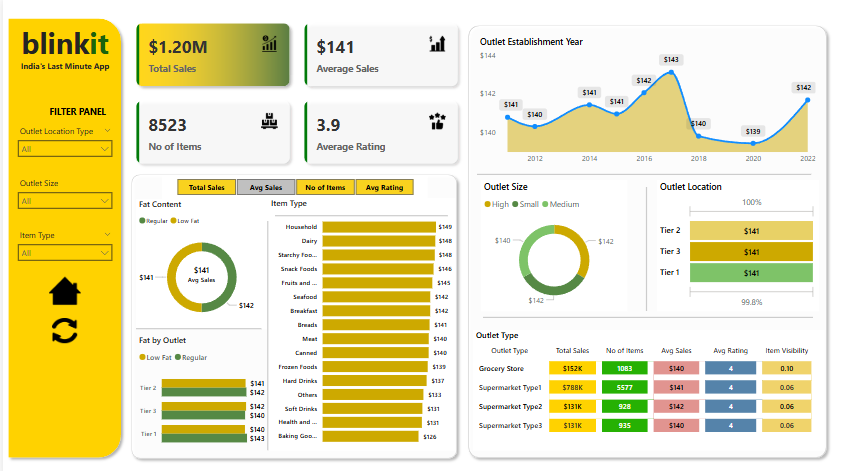

This screenshot's page, from the dashboard's own definition file:
{"tool":"powerbi","page":{"name":"Page 1","canvas":[1400,800],"ordinal":0},"visuals":[{"type":"shape","box":[0,24.1,205.6,750.2],"z":0},{"type":"textbox","box":[20.9,35.3,163.9,75.5],"z":1000},{"type":"textbox","box":[14.5,98,176.7,27.3],"z":2000},{"type":"cardVisual","fields":{"Data":["Key Metrics.Total Sales","Key Metrics.Average Sales","Key Metrics.No of Items","Key Metrics.Average Rating"]},"box":[205.6,24.1,570.3,269.9],"z":3000},{"type":"shape","box":[205.6,282.7,560.6,491.6],"z":4000},{"type":"donutChart","title":"Fat Content","fields":{"Y":["Key Metrics.Total Sales"],"Category":["BlinkIT Grocery Data.Item Fat Content"]},"box":[221.4,332.9,220,217.1],"z":5000},{"type":"slicer","fields":{"Values":["Metrics.Metrics"]},"box":[265.1,294,443.4,40.2],"z":6000},{"type":"cardVisual","fields":{"Data":["Key Metrics.Total Sales"]},"box":[289.2,422.5,85.1,73.9],"z":7000},{"type":"clusteredBarChart","title":"Fat by Outlet","fields":{"Y":["Key Metrics.Total Sales"],"Category":["BlinkIT Grocery Data.Outlet Location Type"],"Series":["BlinkIT Grocery Data.Item Fat Content"]},"box":[221.4,560,220,201.4],"z":8000},{"type":"barChart","title":"Item Type","fields":{"Y":["Key Metrics.Total Sales"],"Category":["BlinkIT Grocery Data.Item Type"]},"box":[441.8,330.9,311.6,420.9],"z":9000},{"type":"shape","box":[221.7,520.5,208.8,59.4],"z":10000},{"type":"shape","box":[409.6,369.5,62.7,382.3],"z":11000},{"type":"shape","box":[453,330.9,287.6,59.4],"z":12000},{"type":"shape","box":[766.3,35.3,615.3,739],"z":13000},{"type":"areaChart","title":"Outlet Establishment Year","fields":{"Y":["Key Metrics.Total Sales"],"Category":["BlinkIT Grocery Data.Outlet Establishment Year"]},"box":[790,60,570,224.3],"z":14000},{"type":"donutChart","title":"Outlet Size","fields":{"Y":["Key Metrics.Total Sales"],"Category":["BlinkIT Grocery Data.Outlet Size"]},"box":[797.1,301.4,244.3,218.6],"z":15000},{"type":"funnel","title":"Outlet Location","fields":{"Y":["Key Metrics.Total Sales"],"Category":["BlinkIT Grocery Data.Outlet Location Type"]},"box":[1090,301.4,270,218.6],"z":16000},{"type":"shape","box":[790,263.3,556.7,58.3],"z":17000},{"type":"shape","box":[1041.7,313.3,61.7,206.7],"z":18000},{"type":"shape","box":[800,501.7,550,58.3],"z":19000},{"type":"pivotTable","title":"Outlet Type","fields":{"Rows":["BlinkIT Grocery Data.Outlet Type"],"Values":["Key Metrics.Total Sales","Key Metrics.No of Items","Key Metrics.Avg Sales","Key Metrics.Avg Rating","Avg(BlinkIT Grocery Data.Item Visibility)"]},"box":[782.9,551.4,585.7,201.4],"z":20000},{"type":"slicer","fields":{"Values":["BlinkIT Grocery Data.Outlet Location Type"]},"box":[15,206.7,176.7,76.7],"z":21000},{"type":"slicer","fields":{"Values":["BlinkIT Grocery Data.Outlet Size"]},"box":[15,293.3,176.7,73.3],"z":22000},{"type":"slicer","fields":{"Values":["BlinkIT Grocery Data.Item Type"]},"box":[15,380,176.7,73.3],"z":23000},{"type":"textbox","box":[62.7,171.9,122.1,36.9],"z":24000},{"type":"actionButton","box":[76.7,460,53.3,53.3],"z":25000},{"type":"actionButton","box":[81.7,531.7,41.7,41.7],"z":26000}]}

Visuals, with their boxes in screenshot pixels (x1, y1, x2, y2), scaled from the page's 1400x800 canvas onto the 841x471 screenshot:
shape: box=[0, 14, 124, 456]
textbox: box=[13, 21, 111, 65]
textbox: box=[9, 58, 115, 74]
cardVisual - Key Metrics.Total Sales x Key Metrics.Average Sales: box=[124, 14, 466, 173]
shape: box=[124, 166, 460, 456]
"Fat Content" donutChart: box=[133, 196, 265, 324]
slicer - Metrics.Metrics: box=[159, 173, 426, 197]
cardVisual - Key Metrics.Total Sales: box=[174, 249, 225, 292]
"Fat by Outlet" clusteredBarChart: box=[133, 330, 265, 448]
"Item Type" barChart: box=[265, 195, 453, 443]
shape: box=[133, 306, 259, 341]
shape: box=[246, 218, 284, 443]
shape: box=[272, 195, 445, 230]
shape: box=[460, 21, 830, 456]
"Outlet Establishment Year" areaChart: box=[475, 35, 817, 167]
"Outlet Size" donutChart: box=[479, 177, 626, 306]
"Outlet Location" funnel: box=[655, 177, 817, 306]
shape: box=[475, 155, 809, 189]
shape: box=[626, 184, 663, 306]
shape: box=[481, 295, 811, 330]
"Outlet Type" pivotTable: box=[470, 325, 822, 443]
slicer - BlinkIT Grocery Data.Outlet Location Type: box=[9, 122, 115, 167]
slicer - BlinkIT Grocery Data.Outlet Size: box=[9, 173, 115, 216]
slicer - BlinkIT Grocery Data.Item Type: box=[9, 224, 115, 267]
textbox: box=[38, 101, 111, 123]
actionButton: box=[46, 271, 78, 302]
actionButton: box=[49, 313, 74, 338]
